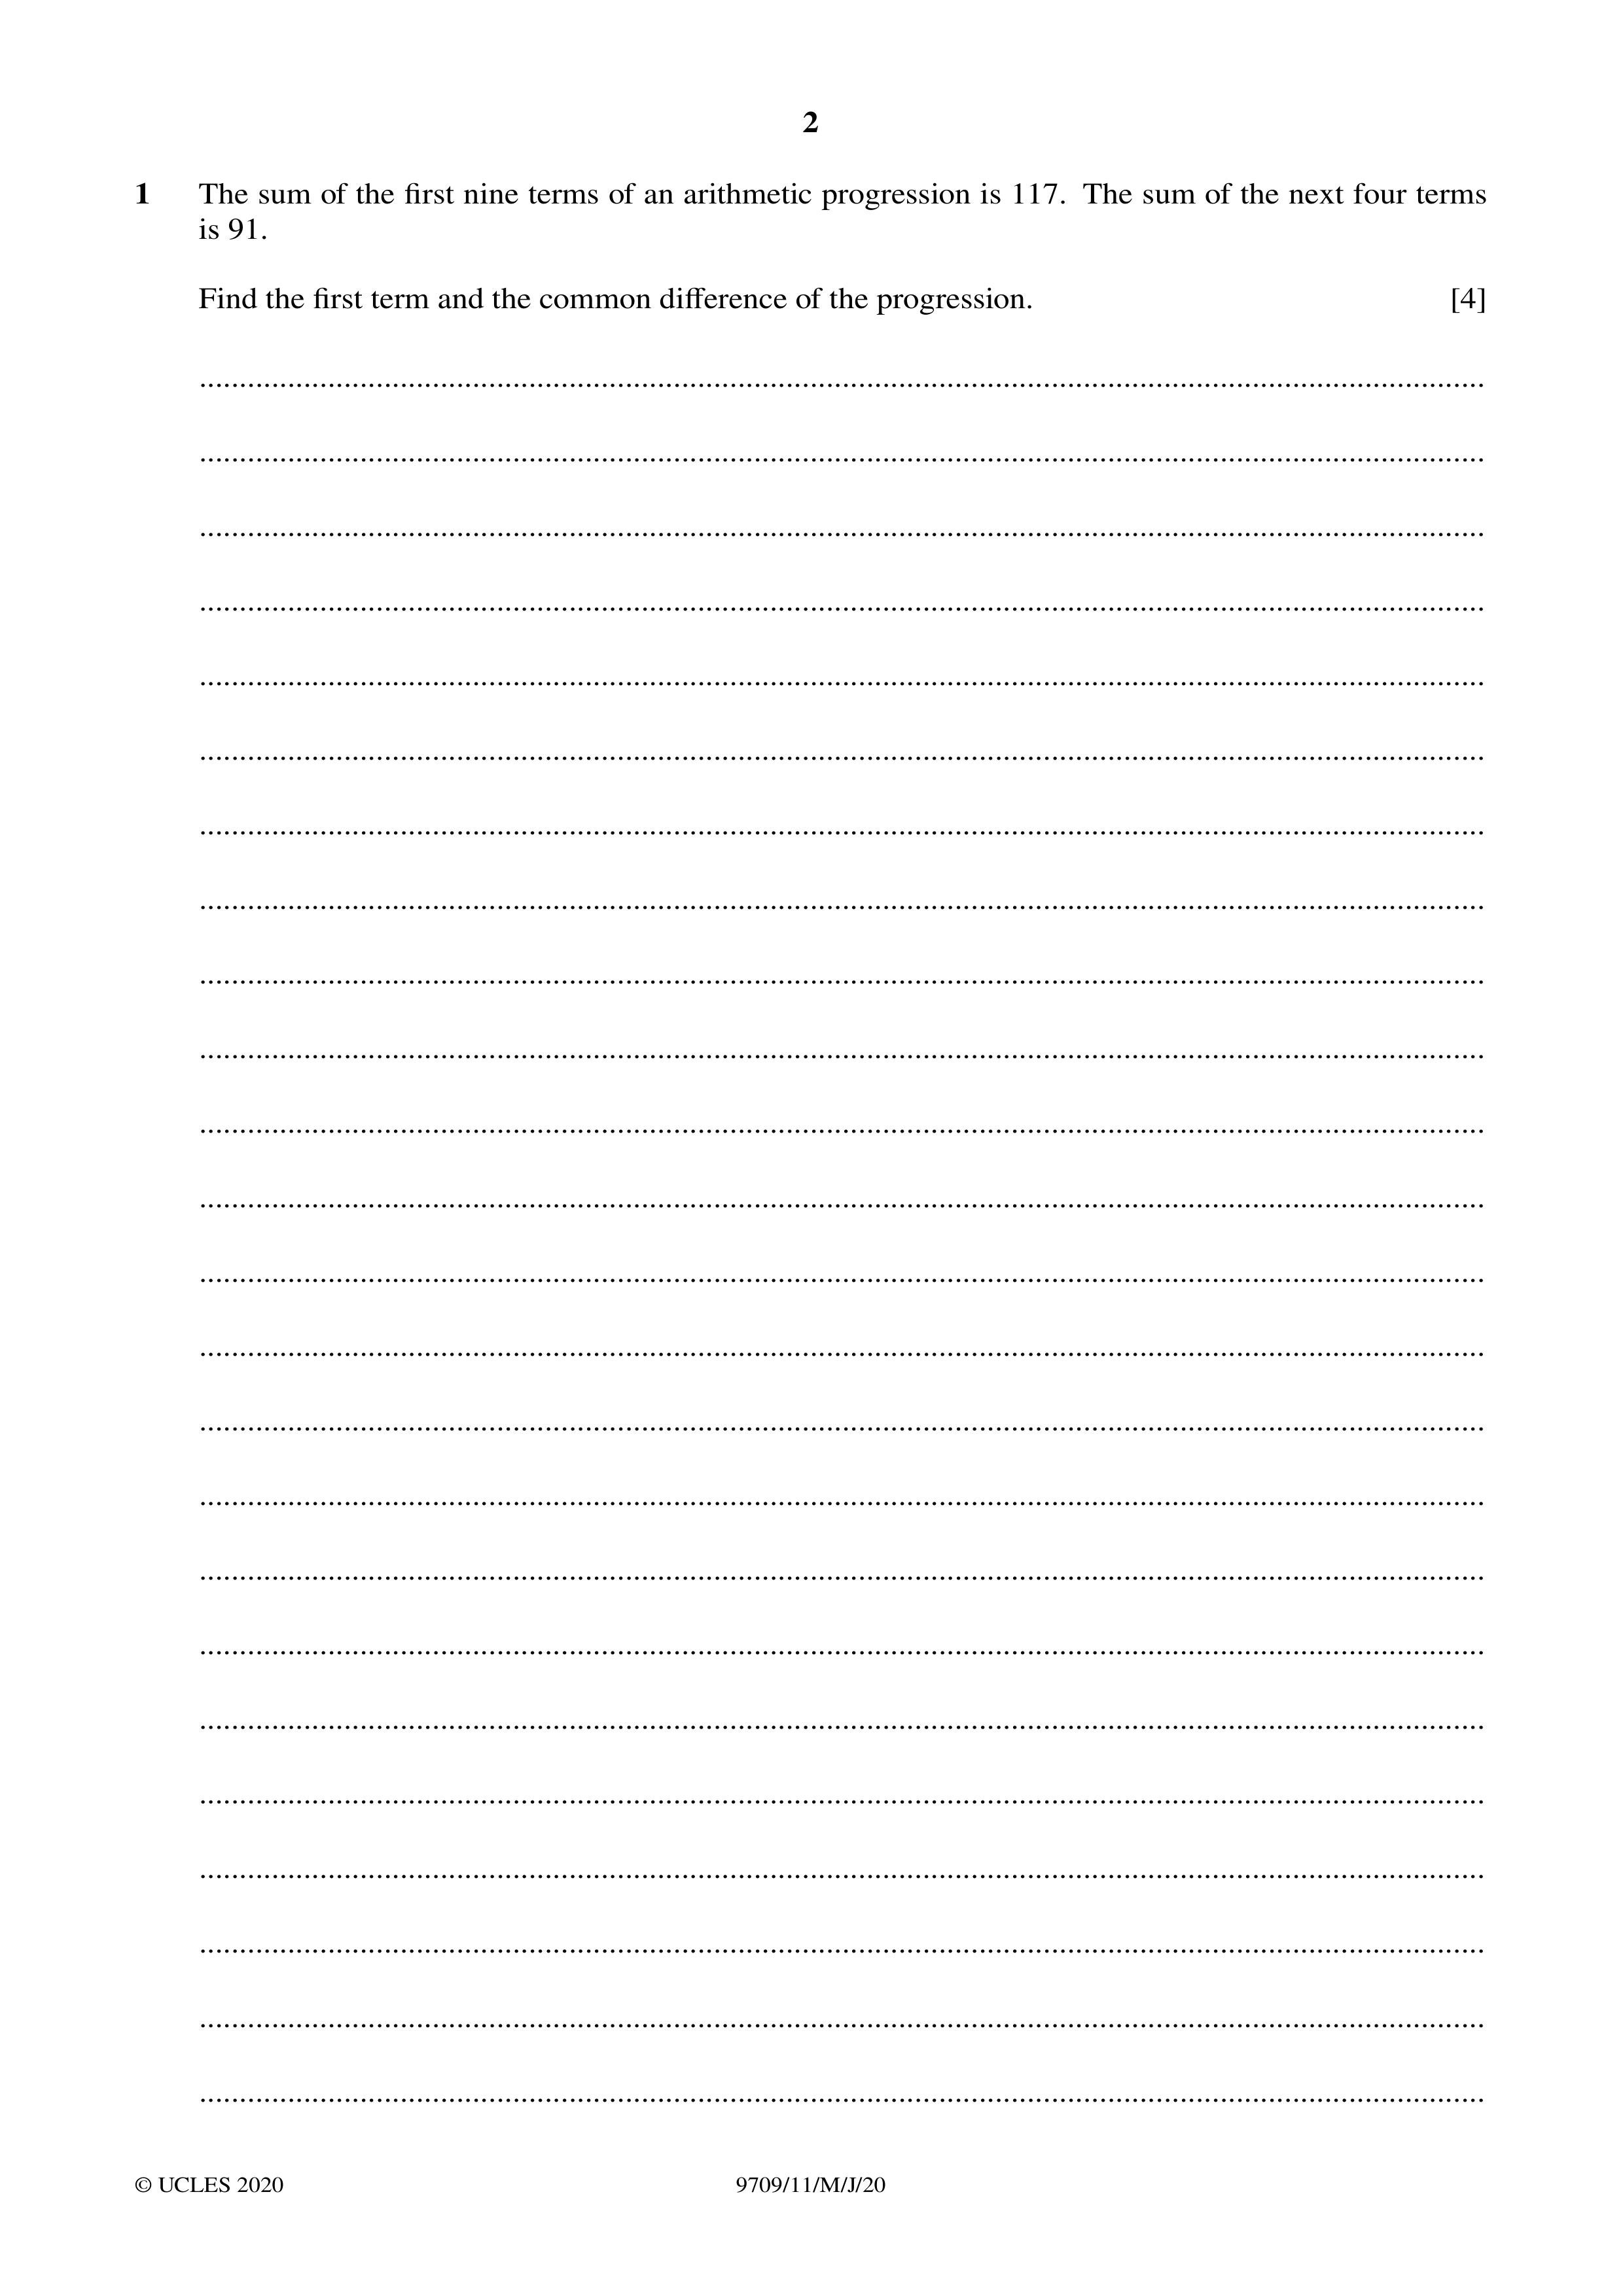question: (107, 140, 1519, 349)
